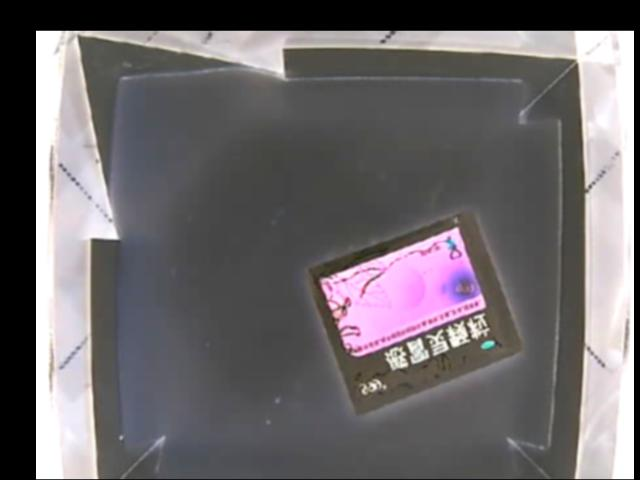Medicine: (309, 206, 524, 416)
